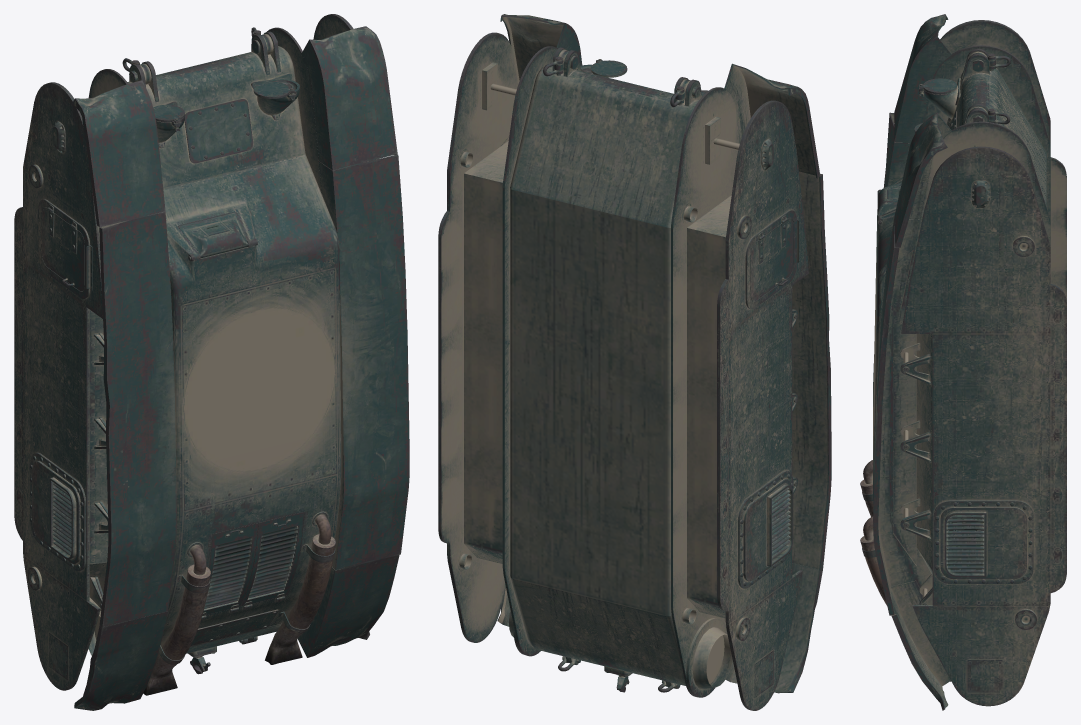
Rendered from Hull.glb.
The picture shows the model from 3 angles, left to right: view 1: azimuth 30°, elevation 25°; view 2: azimuth 150°, elevation 25°; view 3: azimuth 270°, elevation 25°; orthographic projection. The views are drawn at different scales.
Visible parts, largest first — view 1: set_0_group_0; view 2: set_0_group_0; view 3: set_0_group_0.
Boxes of the visible parts, x1,y1,x2,y2 form: set_0_group_0: [14, 14, 409, 710]; set_0_group_0: [438, 14, 831, 710]; set_0_group_0: [860, 14, 1066, 710].
Bounding box in the file's own units: 2.83 × 5.67 × 1.82.
1 material, 1 textured.
